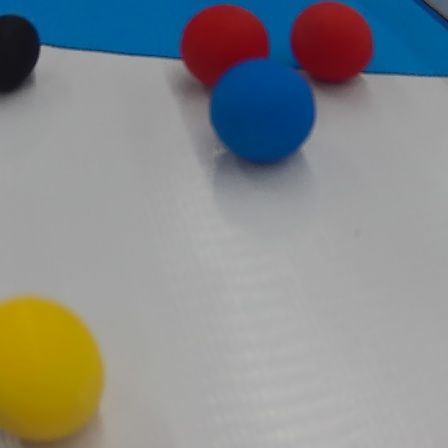black: (0, 15, 40, 95)
blue: (216, 64, 315, 168)
blue_base: (0, 0, 445, 81)
red: (289, 1, 375, 93), (183, 9, 276, 86)
yellow: (0, 293, 107, 446)
